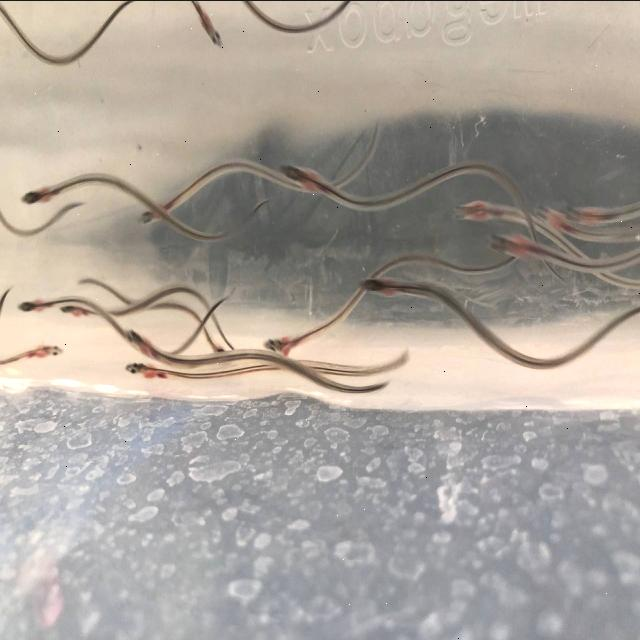glass_eel: (124, 321, 164, 368), (195, 7, 227, 65), (134, 194, 176, 238), (564, 190, 606, 233), (350, 265, 394, 305), (276, 152, 312, 197), (532, 189, 568, 232), (28, 332, 66, 372), (488, 226, 532, 260), (117, 356, 163, 388), (452, 194, 488, 234), (18, 173, 54, 211), (14, 292, 48, 326), (259, 323, 293, 357), (58, 296, 92, 324)
